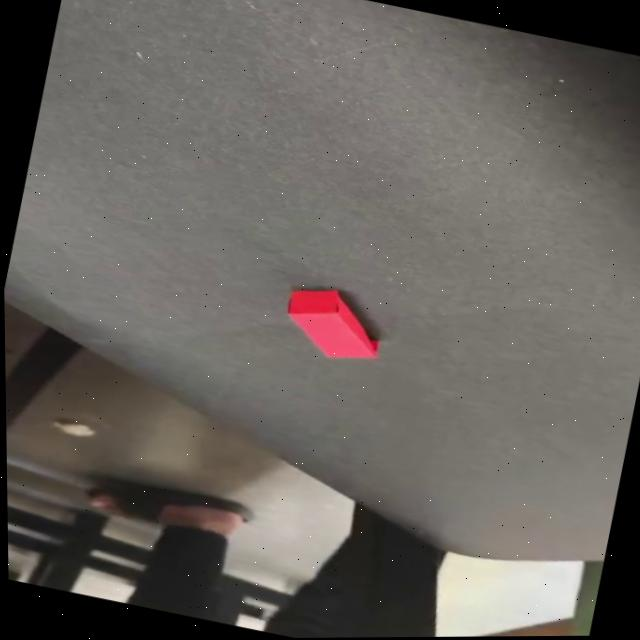red block: (275, 279, 388, 368)
